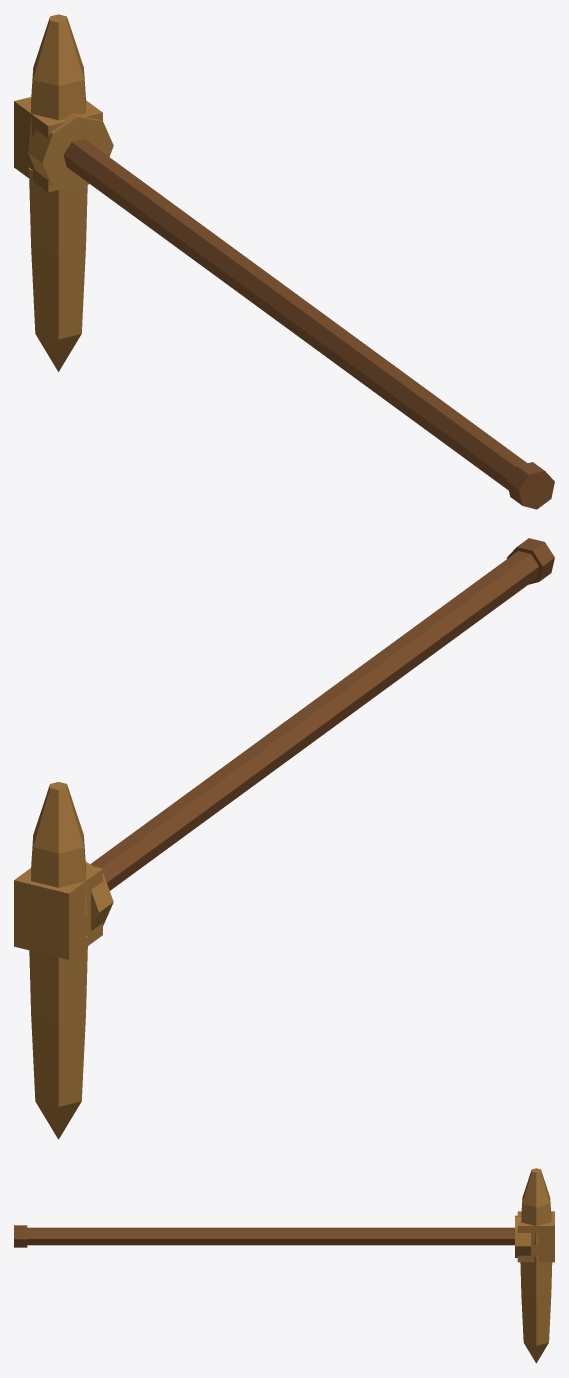
File: Tool_Pickaxe_Bronze.fbx
3 views of the same model, one above another, from view 1: azimuth 30°, elevation 25°; view 2: azimuth 150°, elevation 25°; view 3: azimuth 270°, elevation 25° (orthographic). The views are drawn at different scales.
Parts seen in each view (by area): view 1: Tool_Pickaxe_Bronze; view 2: Tool_Pickaxe_Bronze; view 3: Tool_Pickaxe_Bronze.
Boxes of the visible parts, box(x1,y1,x2,y2) form: Tool_Pickaxe_Bronze: box(14, 14, 554, 509); Tool_Pickaxe_Bronze: box(14, 538, 554, 1139); Tool_Pickaxe_Bronze: box(14, 1168, 554, 1363).
Size of the model in its own units: 0.0338 by 0.16 by 0.406.
